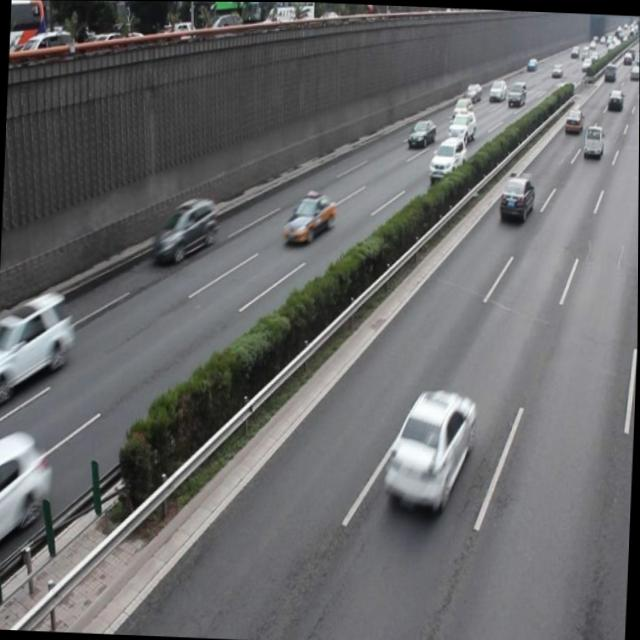car: (382, 385, 475, 513), (0, 286, 76, 406), (0, 426, 54, 565), (153, 193, 217, 265), (282, 190, 336, 244), (425, 134, 466, 184), (497, 173, 534, 224)
